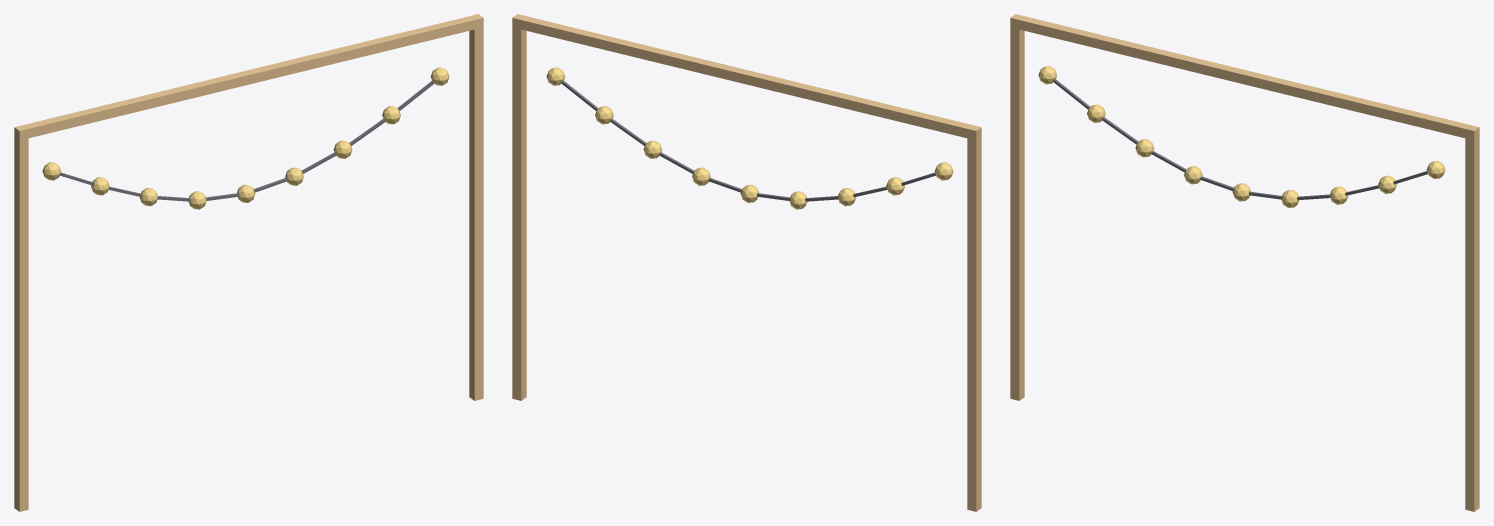
File: cozy-home-interiors-string-lights-frame-c20d0a4f.glb
3 views of the same model, side by side, from view 1: azimuth 30°, elevation 25°; view 2: azimuth 150°, elevation 25°; view 3: azimuth 330°, elevation 25° (orthographic).
Parts seen in each view (by area): view 1: string-lights-frame; view 2: string-lights-frame; view 3: string-lights-frame.
Part boxes in pixels (left/top/right/bottom): string-lights-frame: left=14, top=14, right=483, bottom=511; string-lights-frame: left=512, top=14, right=981, bottom=511; string-lights-frame: left=1010, top=14, right=1479, bottom=511.
Size of the model in its own units: 1.53 by 1.2 by 0.0541.
